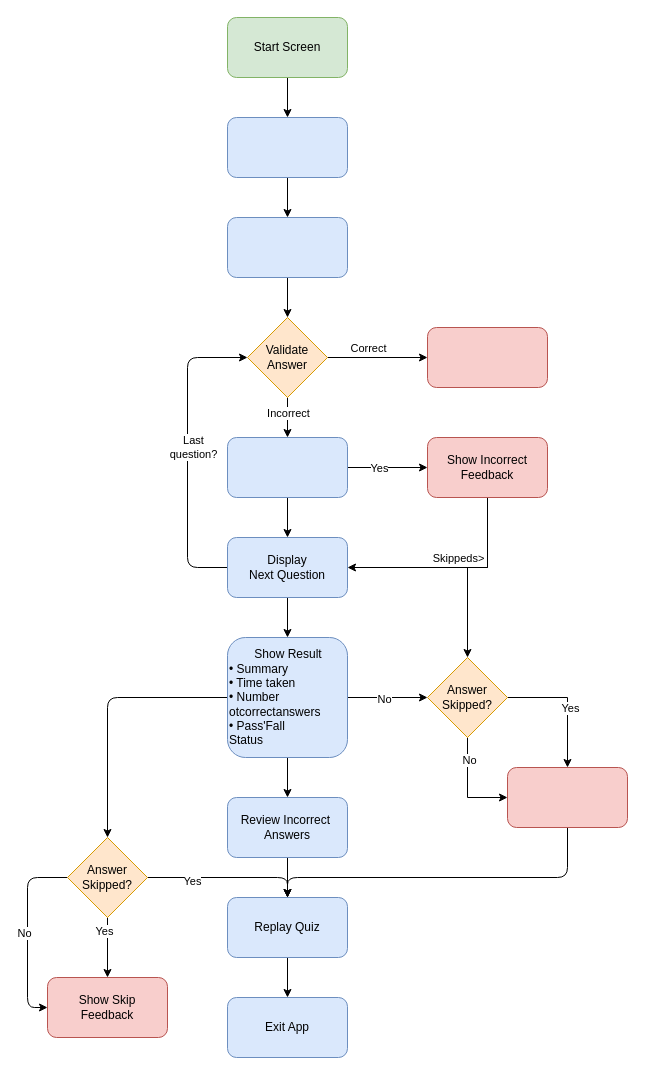
The diagram is 645 pixels wide and 1075 high, and some of its shapes have lost their labels. The centre of each missing label's shape, as x and y in pixels:
"Start Quiz" - Button Clicked: pixel 287 147
Display Question: pixel 287 247
Next Question: pixel 287 467
Show Correct Feedback: pixel 487 357
Show Timeout Feedback: pixel 567 797
